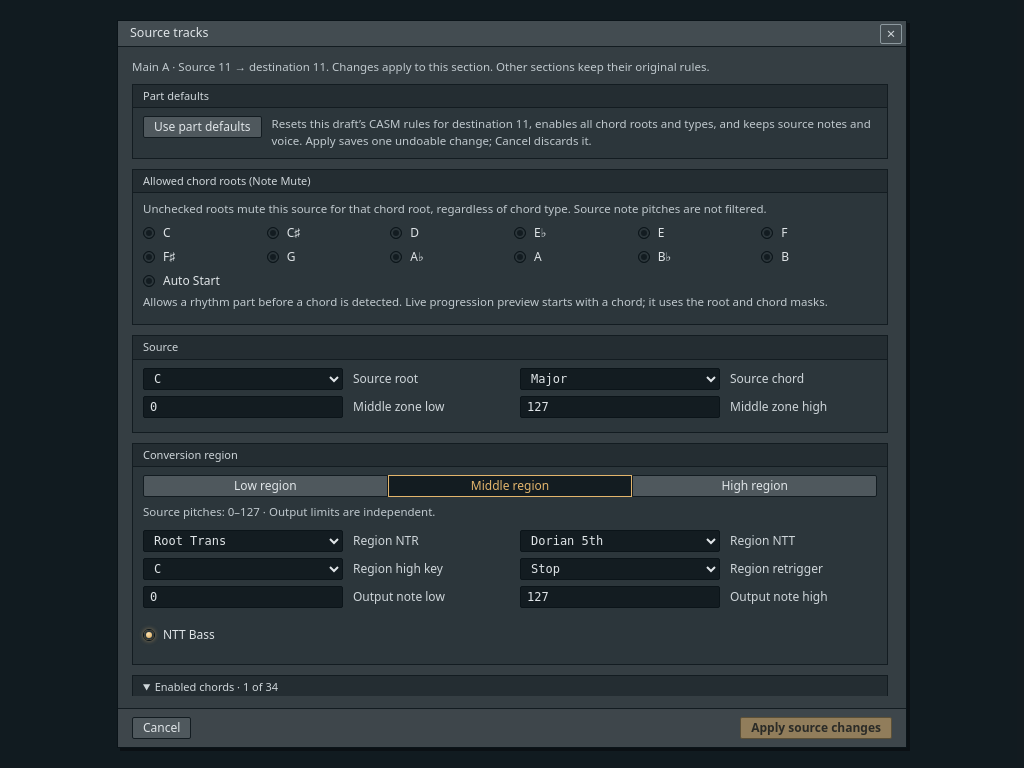
source-track draft transaction › native rejection leaves the draft open with the entered values
Select "G" in the dropdown labelled "Source root" at (243, 379), box [143,368,343,390]
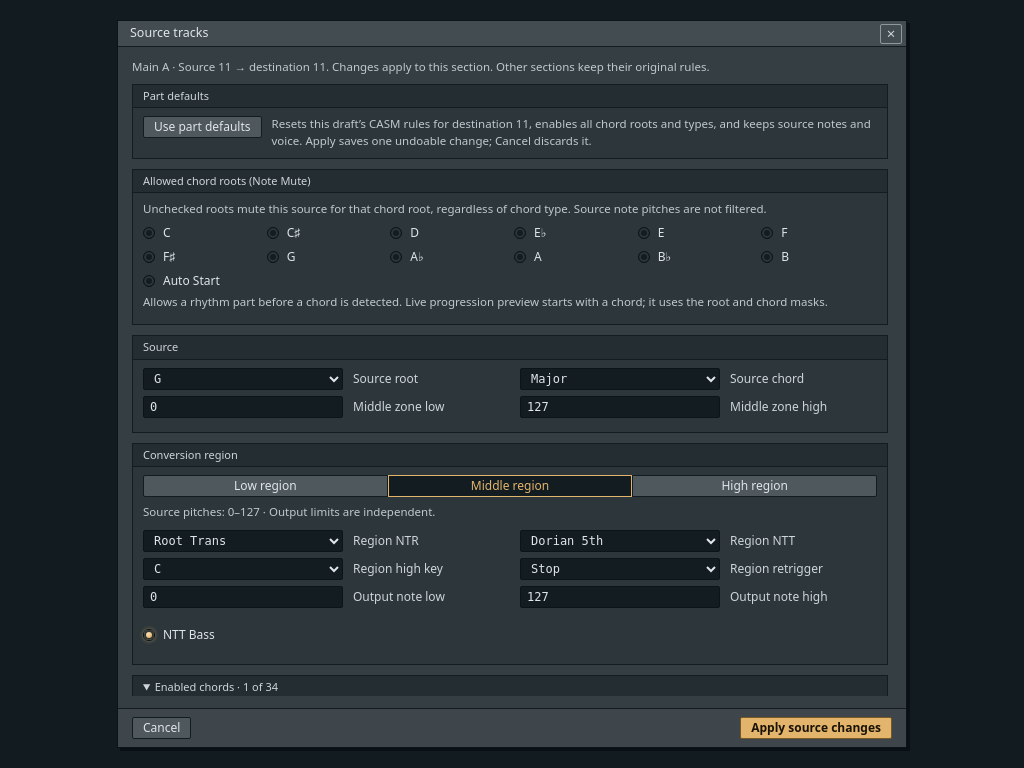
Click the button "Apply source changes".
click(816, 728)  # box [740,717,892,739]
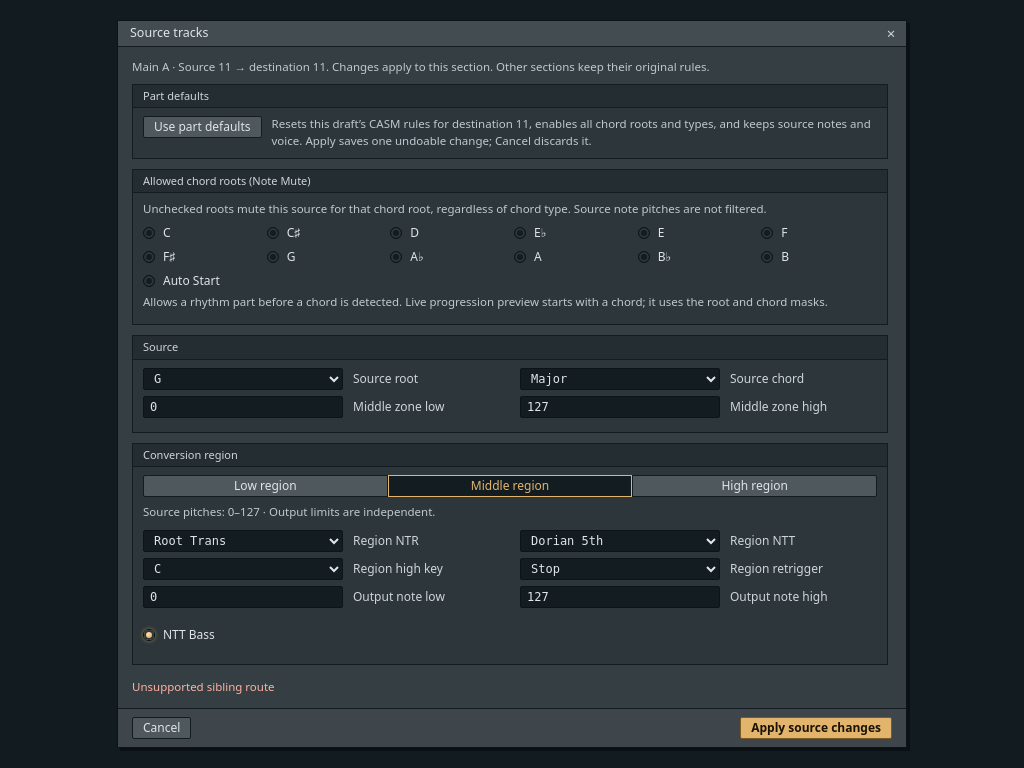
Now the message reads "Unsupported sibling route", box [132,679,275,694]
